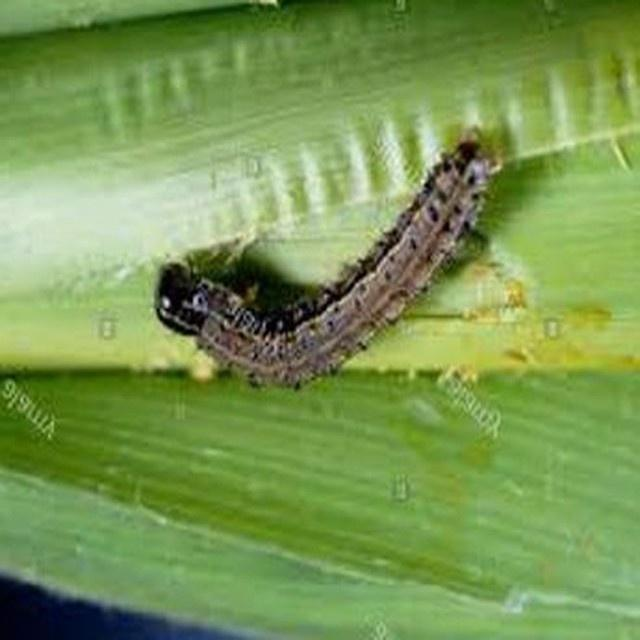gusano_cogollero: (156, 137, 496, 385)
